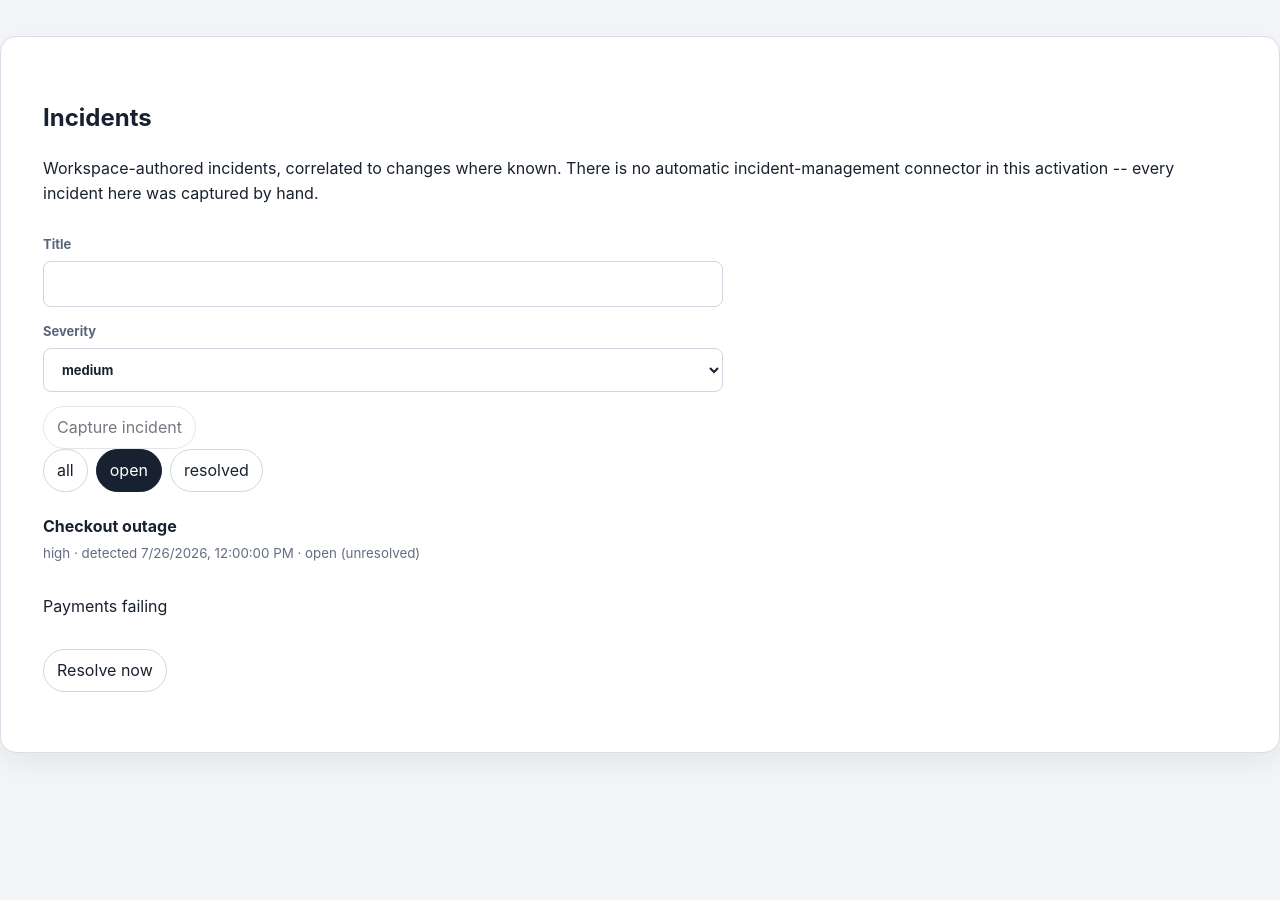
Test: IncidentsPanel › maps INCIDENT_ALREADY_RESOLVED to a readable sentence, never the raw code, and refetches so the stale row and its now-invalid action button don't linger
The image size is (1280, 900).
expect the text "Checkout outage" is shown: met, box [43, 516, 177, 536]
Click the button "Resolve now": (105, 670) [43, 649, 167, 692]
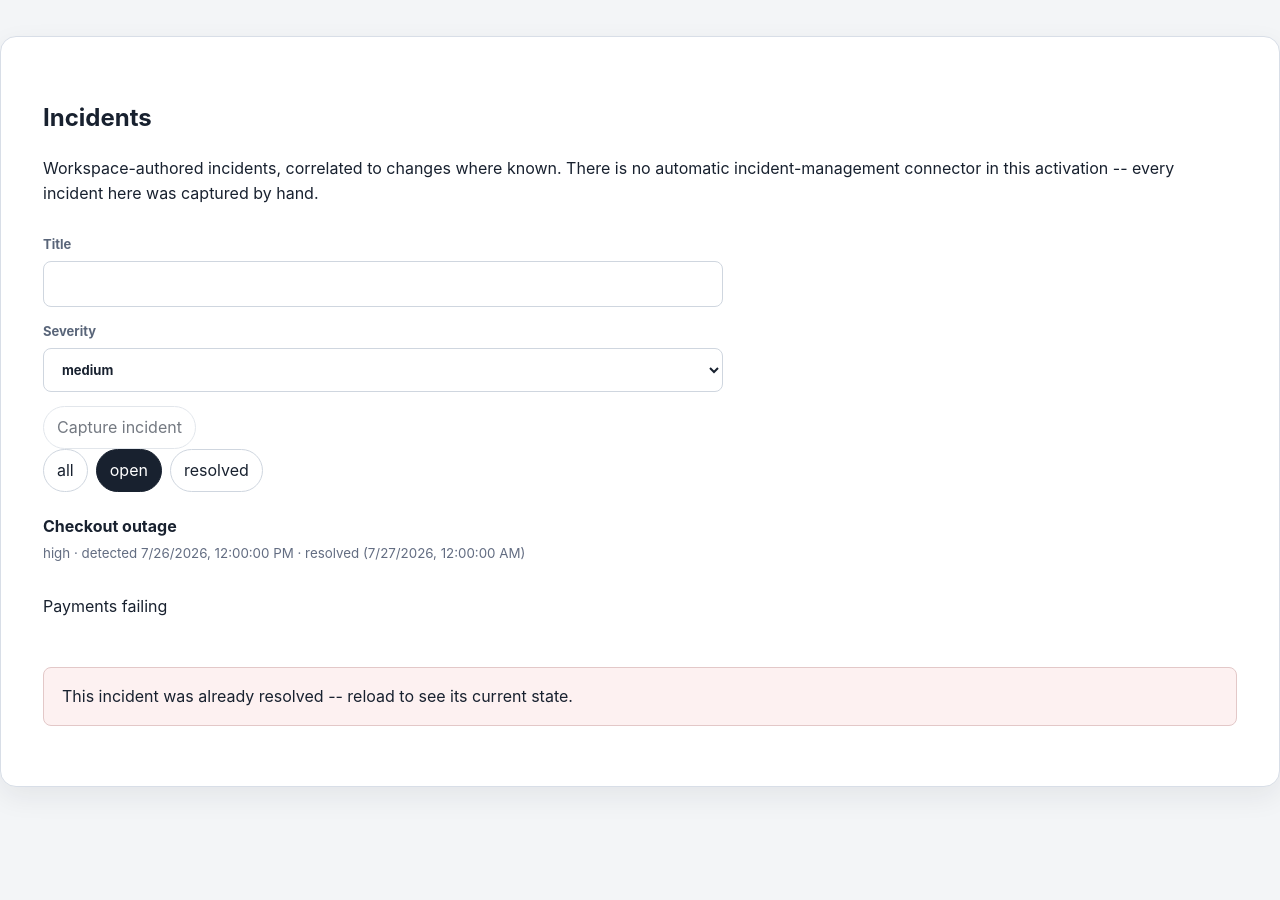
expect the text "This incident was already resolved -- reload to see its current state." is shown: met, box [43, 667, 1237, 726]
expect the button "Resolve now" is gone: met
